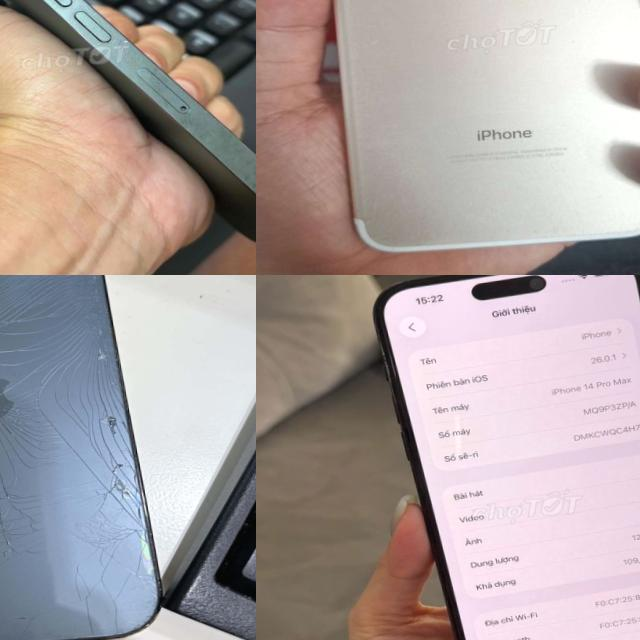gen_12_13: (0, 0, 256, 275), (0, 275, 167, 640)
gen_14: (366, 275, 640, 640)
gen_7_8: (288, 0, 640, 275)
